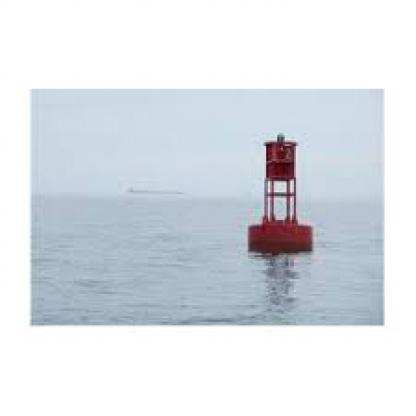buoy: (242, 128, 320, 260)
